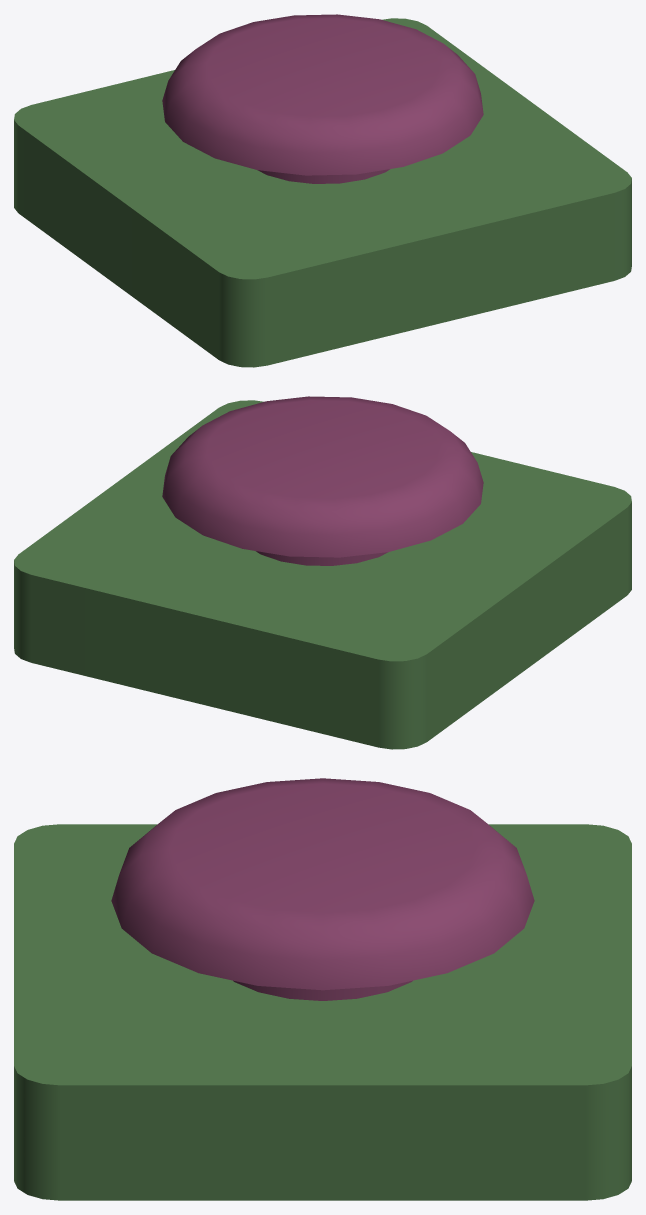
File: Boton_Activacion.fbx
The picture shows the model from 3 angles, top to bottom: view 1: azimuth 30°, elevation 25°; view 2: azimuth 150°, elevation 25°; view 3: azimuth 270°, elevation 25°; orthographic projection. The views are drawn at different scales.
Visible parts, largest first — view 1: polySurface2; view 2: polySurface2; view 3: polySurface2.
Boxes of the visible parts, x1,y1,x2,y2 form: polySurface2: [14, 14, 631, 367]; polySurface2: [14, 396, 631, 749]; polySurface2: [14, 778, 631, 1200].
Size of the model in its own units: 5.25 by 2.08 by 5.25.
